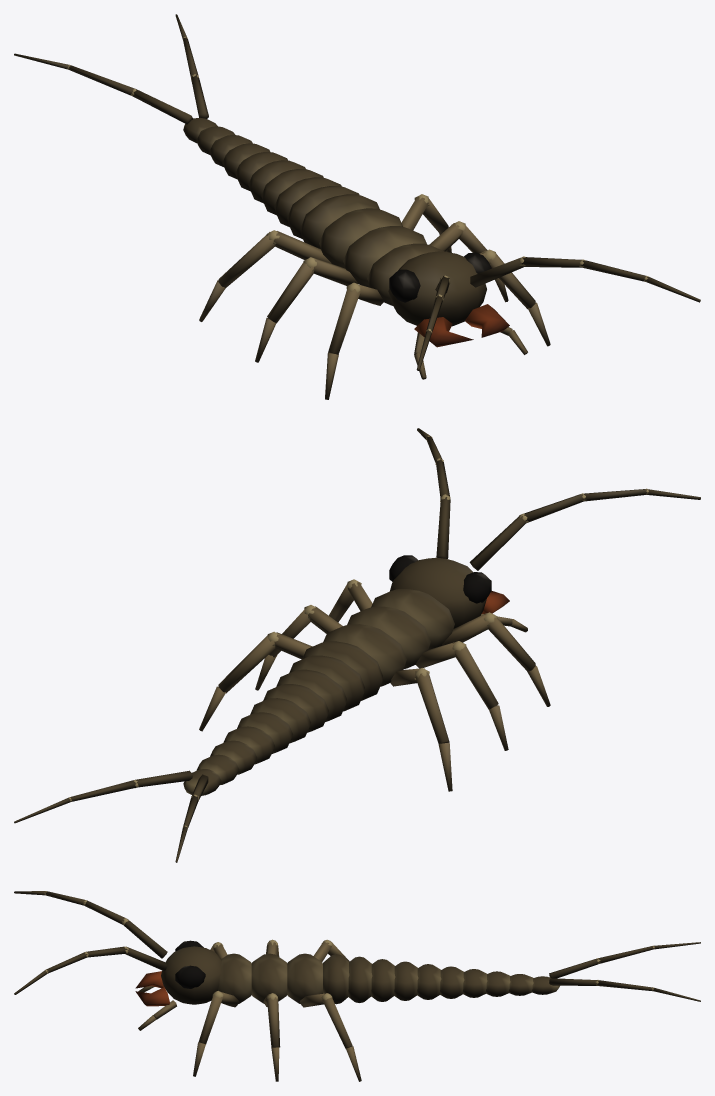
Rendered from Rhyniognatha.fbx.
The picture shows the model from 3 angles, top to bottom: view 1: azimuth 30°, elevation 25°; view 2: azimuth 150°, elevation 25°; view 3: azimuth 270°, elevation 25°; orthographic projection. The views are drawn at different scales.
Parts seen in each view (by area): view 1: Rhyniognatha; view 2: Rhyniognatha; view 3: Rhyniognatha.
Boxes of the visible parts, x1,y1,x2,y2 form: Rhyniognatha: [14, 14, 700, 399]; Rhyniognatha: [14, 428, 700, 862]; Rhyniognatha: [14, 891, 700, 1081].
Size of the model in its own units: 0.6144 by 0.3105 by 1.74.
